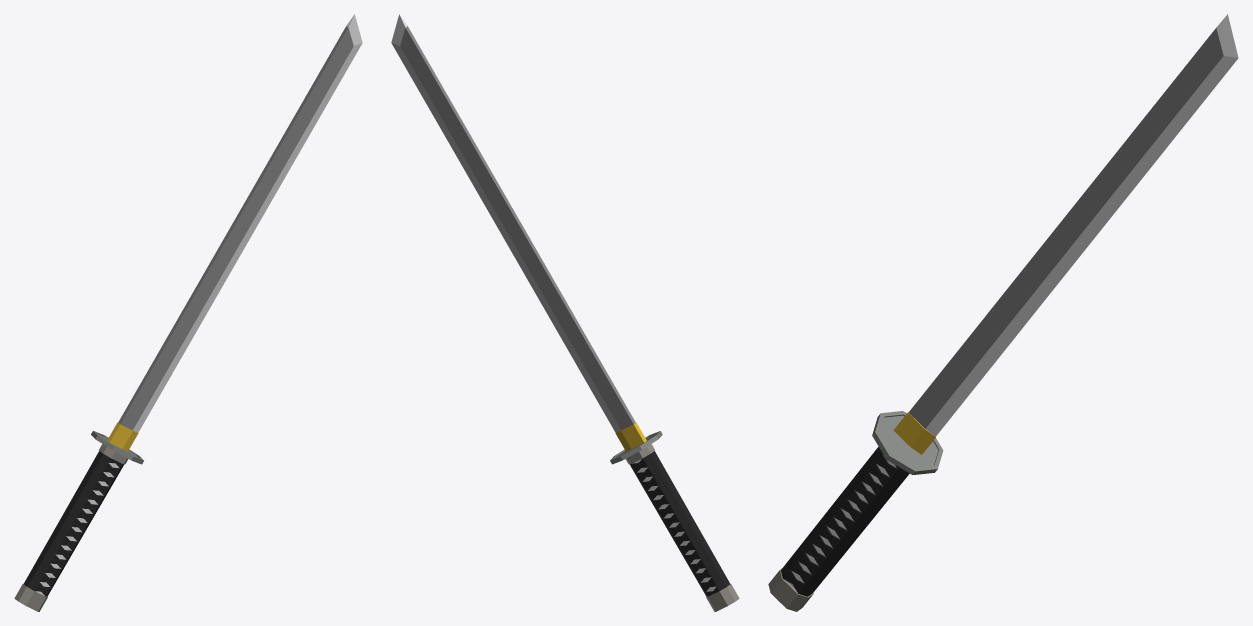
The model's file is Katana.fbx.
3 renders of one model, left to right at view 1: azimuth 30°, elevation 25°; view 2: azimuth 150°, elevation 25°; view 3: azimuth 330°, elevation 25°, orthographic. The views are drawn at different scales.
Parts seen in each view (by area): view 1: Katana; view 2: Katana; view 3: Katana.
Part boxes in pixels (left/top/right/bottom): Katana: left=14, top=14, right=362, bottom=611; Katana: left=391, top=14, right=739, bottom=611; Katana: left=768, top=14, right=1238, bottom=611.
Size of the model in its own units: 1775 by 2542 by 263.
